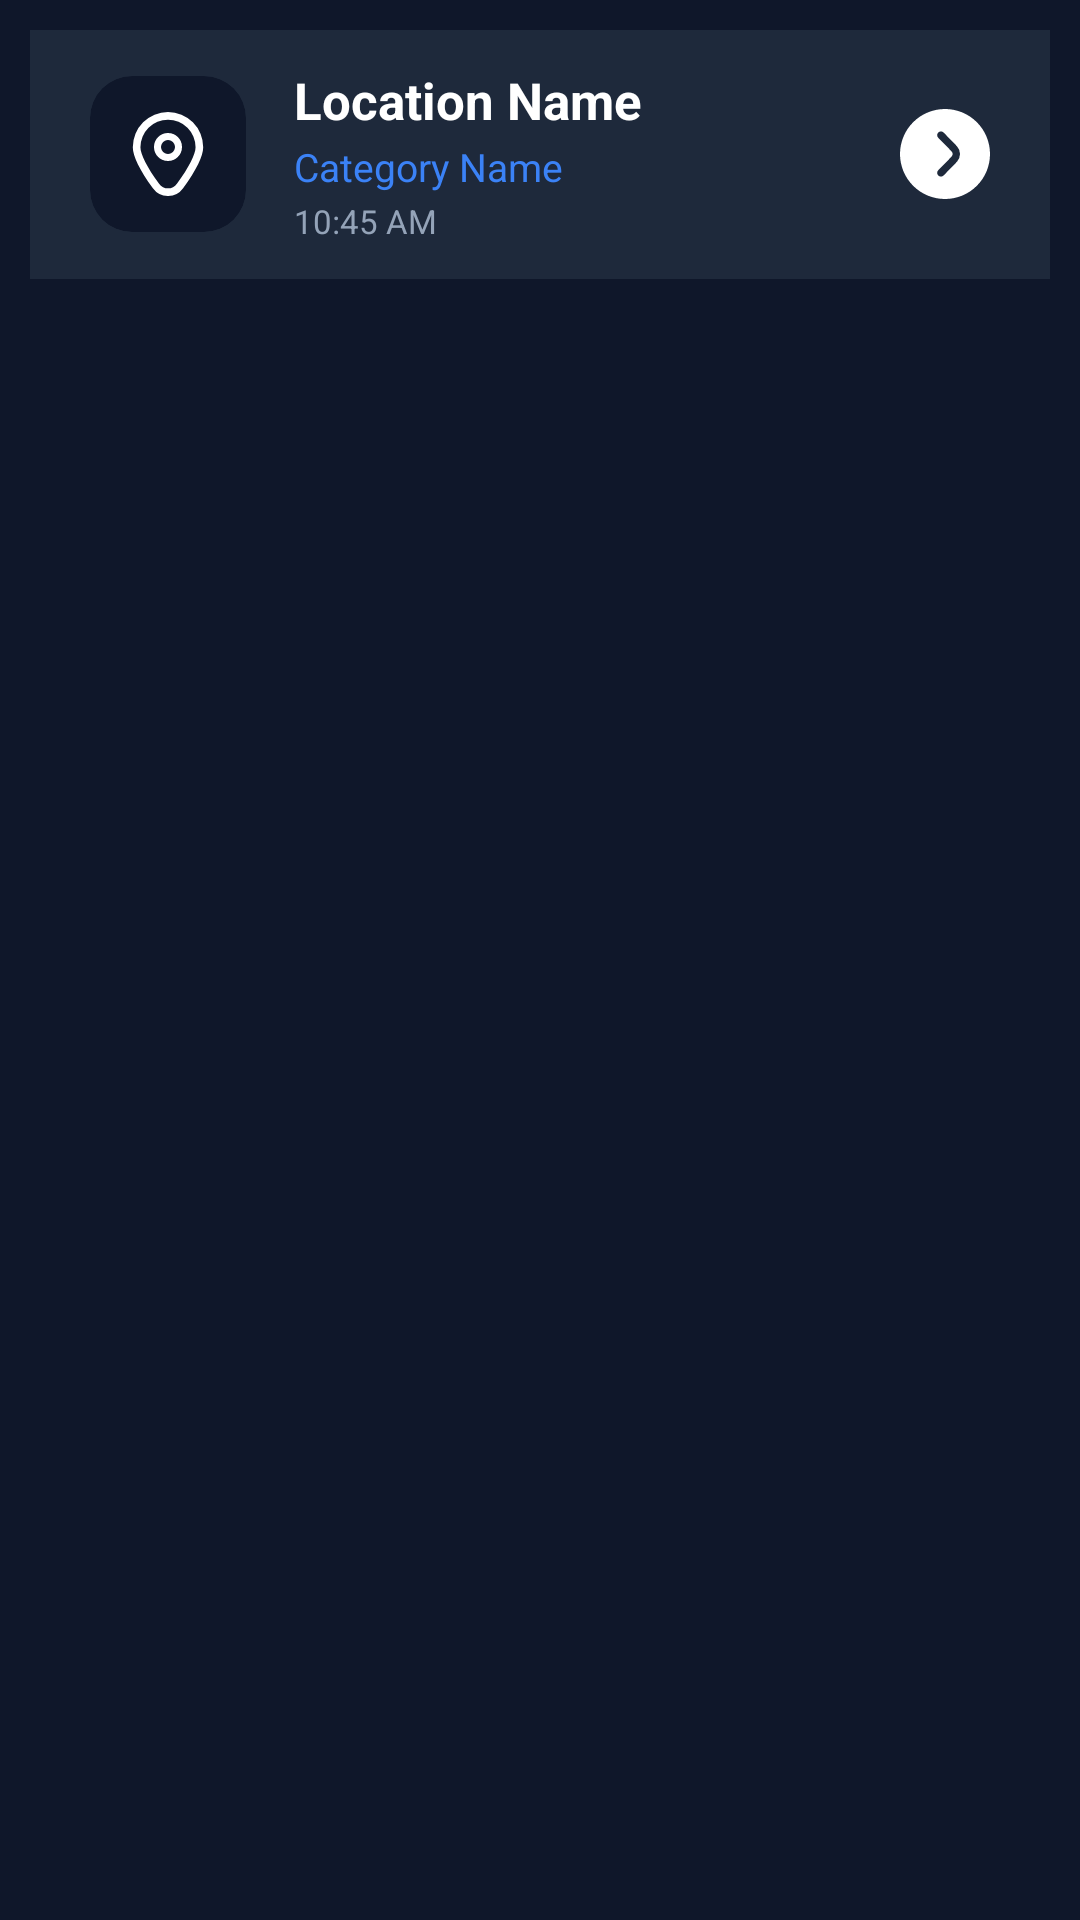

Where icons sit on this 1080px x 1920px app screen, as bbox=[x1, y1, x2, y2]:
angle circle right: bbox=[900, 109, 990, 199]
marker: bbox=[90, 76, 246, 232]
